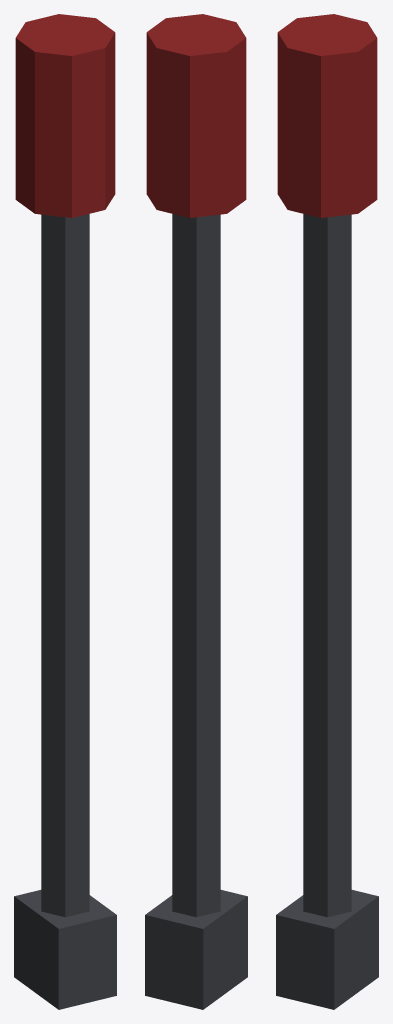
Rendered from mine_switch_lever_handle.glb.
The picture shows the model from 3 angles, left to right: view 1: azimuth 30°, elevation 25°; view 2: azimuth 150°, elevation 25°; view 3: azimuth 330°, elevation 25°; orthographic projection.
Parts seen in each view (by area): view 1: mine_switch_lever_handle; view 2: mine_switch_lever_handle; view 3: mine_switch_lever_handle.
Boxes of the visible parts, box(x1,y1,x2,y2) form: mine_switch_lever_handle: box(14, 14, 116, 1009); mine_switch_lever_handle: box(145, 14, 247, 1009); mine_switch_lever_handle: box(276, 14, 378, 1009).
Bounding box in the file's own units: 0.0831 × 0.94 × 0.0831.
